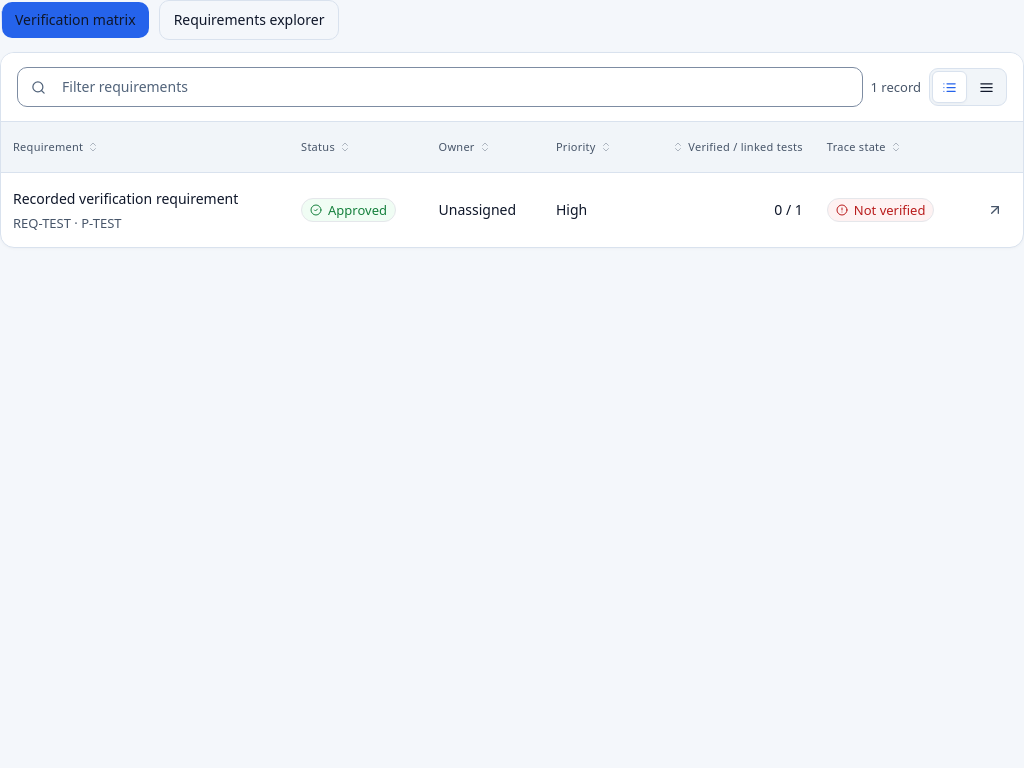
it: Requirement register › keeps an unverified link distinct from verified evidence
The width and height of the screenshot is (1024, 768).
Click the button named "Open REQ-TEST". click: (995, 210)
box: [975,190,1015,230]
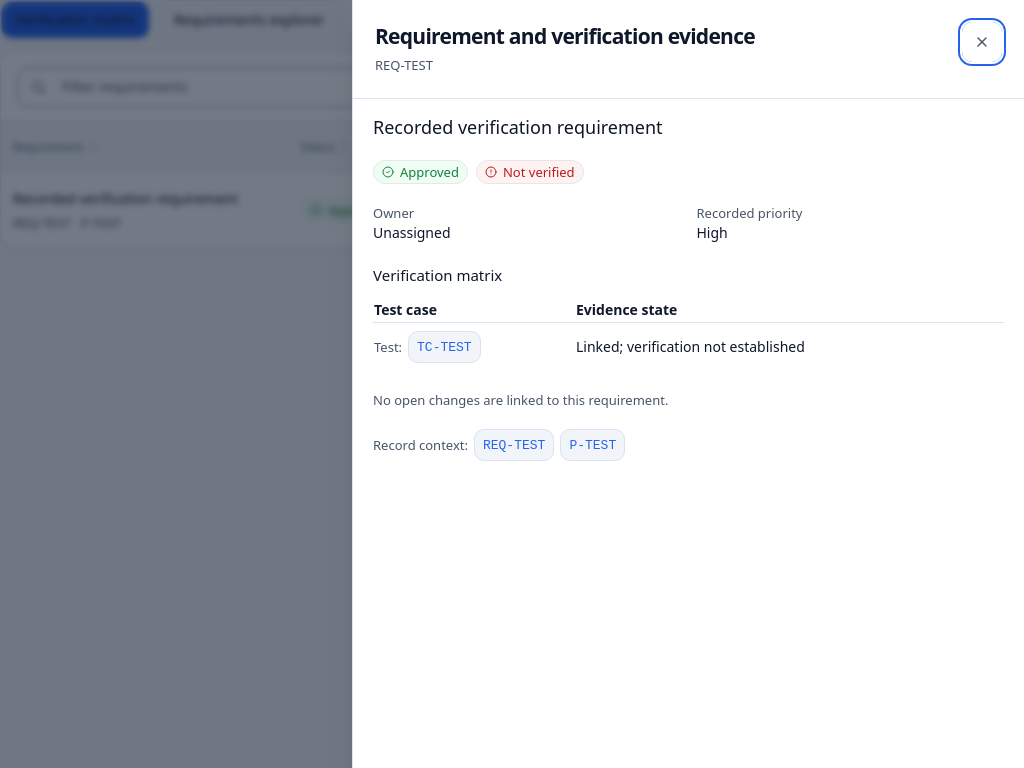
expect the text "Linked; verification not established" is shown: met, box [575,322,1004,371]
expect the button with aria-label "Inspect source TC-TEST" is shown: met, box [408,331,481,363]
